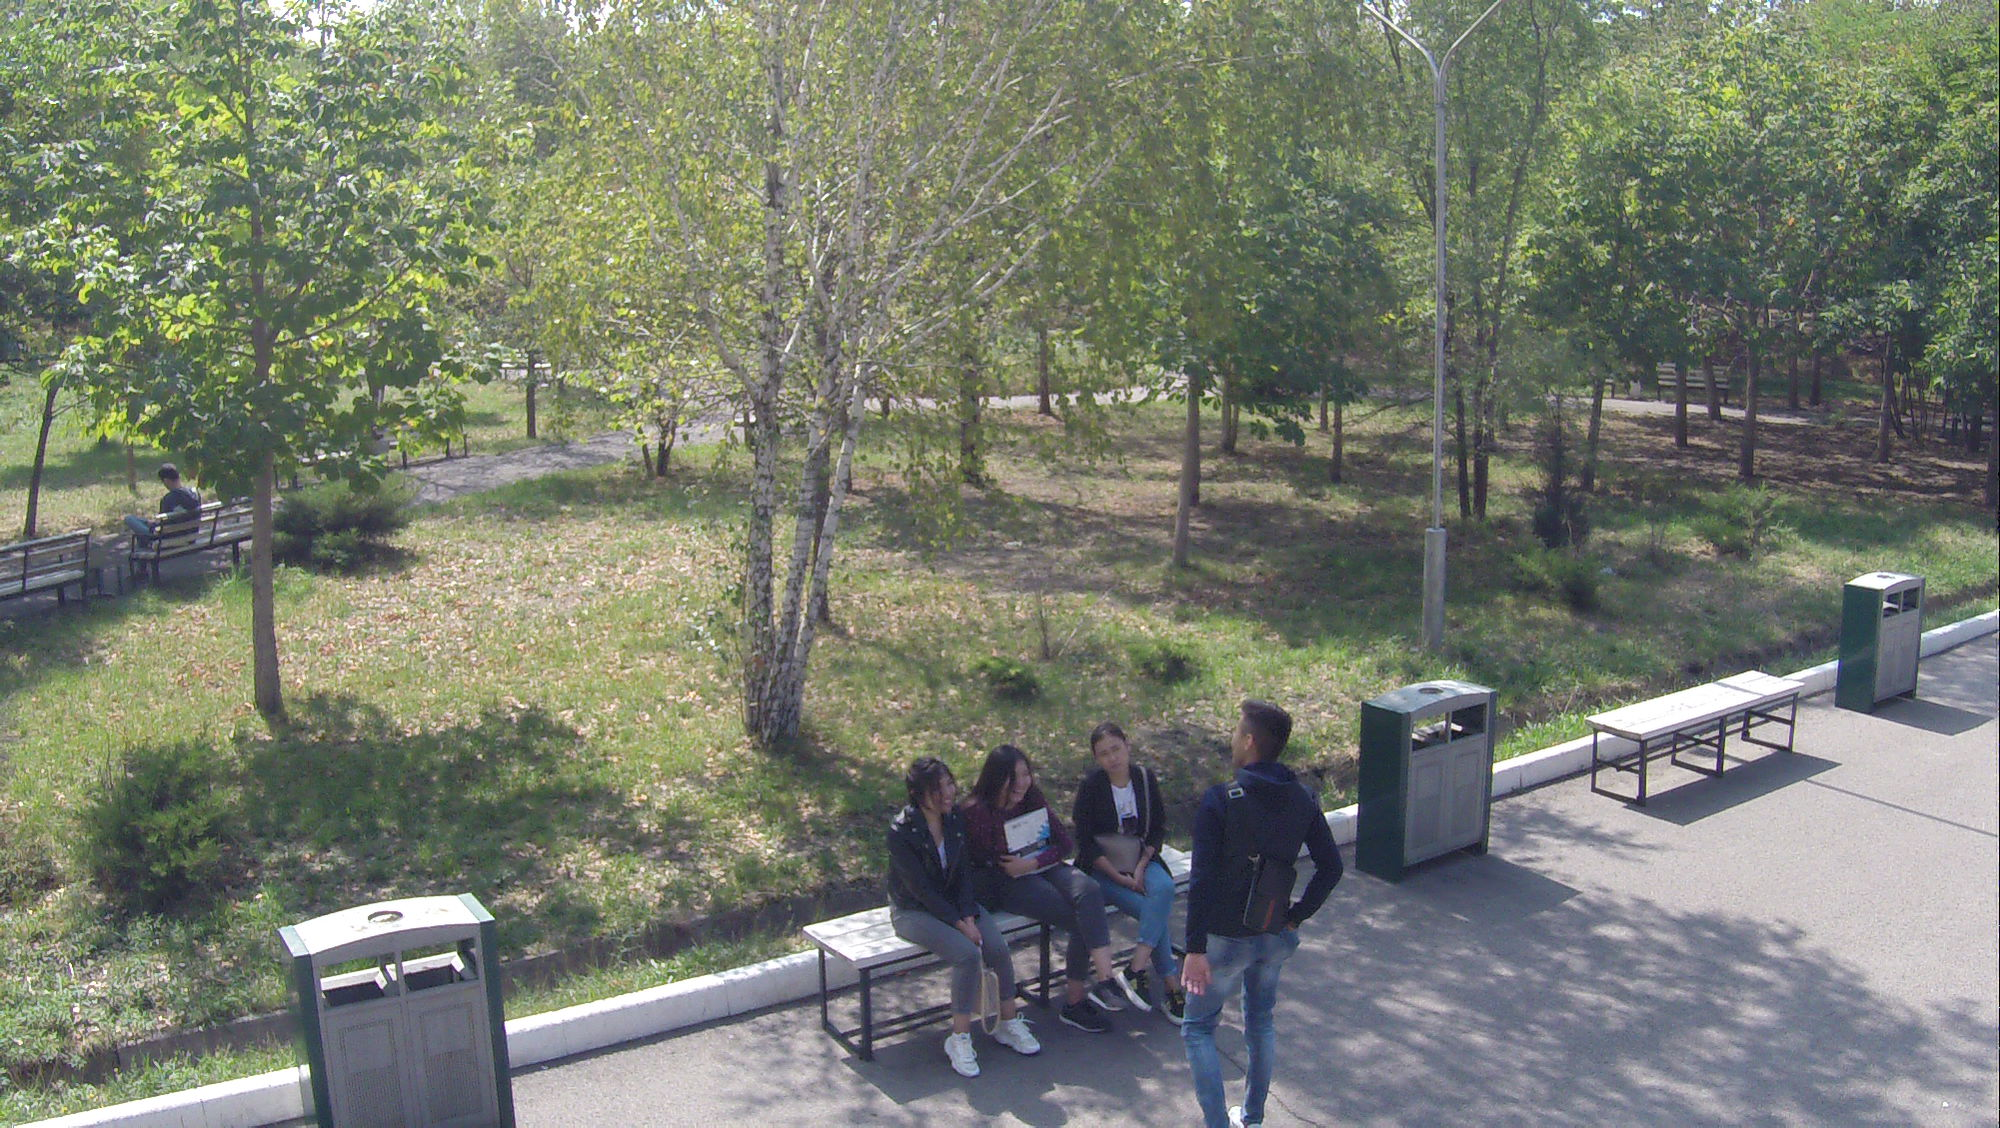person: (1157, 689, 1343, 1128), (882, 760, 1032, 1087), (968, 749, 1114, 1047), (1078, 720, 1205, 1041), (126, 462, 212, 564)
